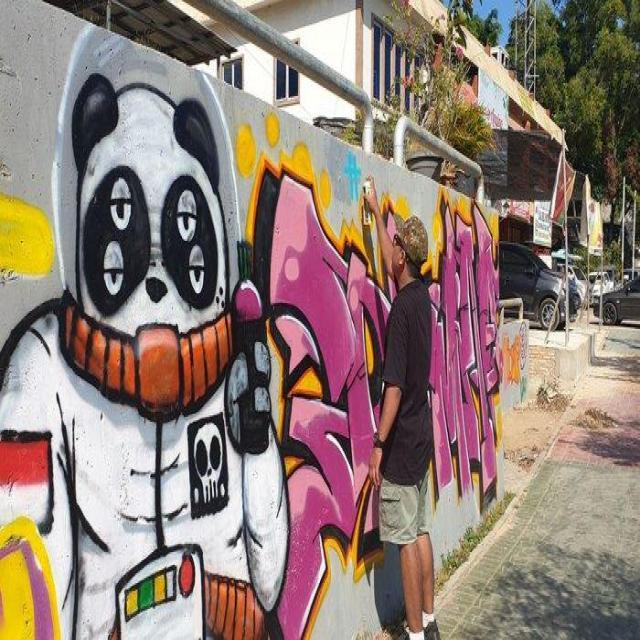-: (0, 22, 292, 640), (270, 174, 502, 633)
